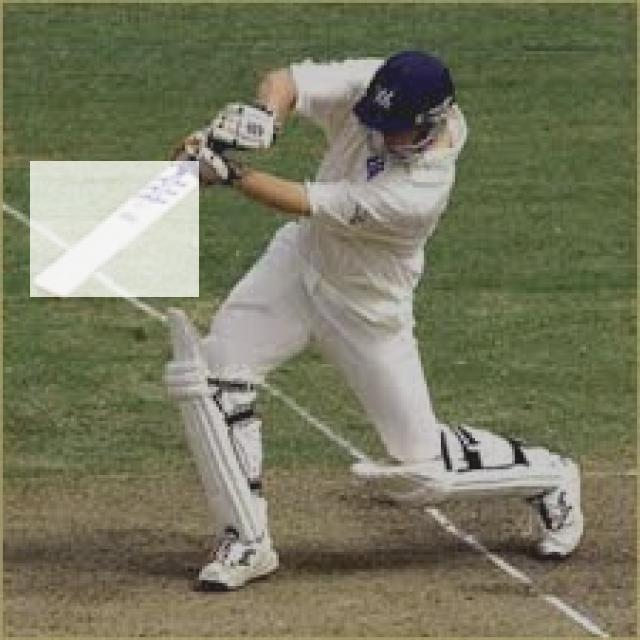bat: (30, 161, 198, 300)
toe: (31, 271, 65, 306)
